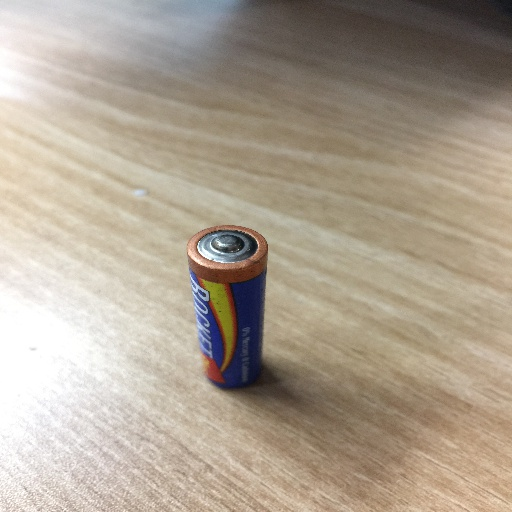Battery_0: (182, 215, 278, 408)
